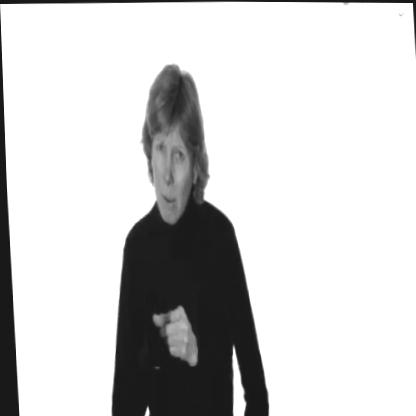HowAreYou: (142, 284, 198, 367)
